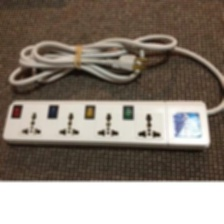three_eye_plug: (0, 92, 216, 153)
